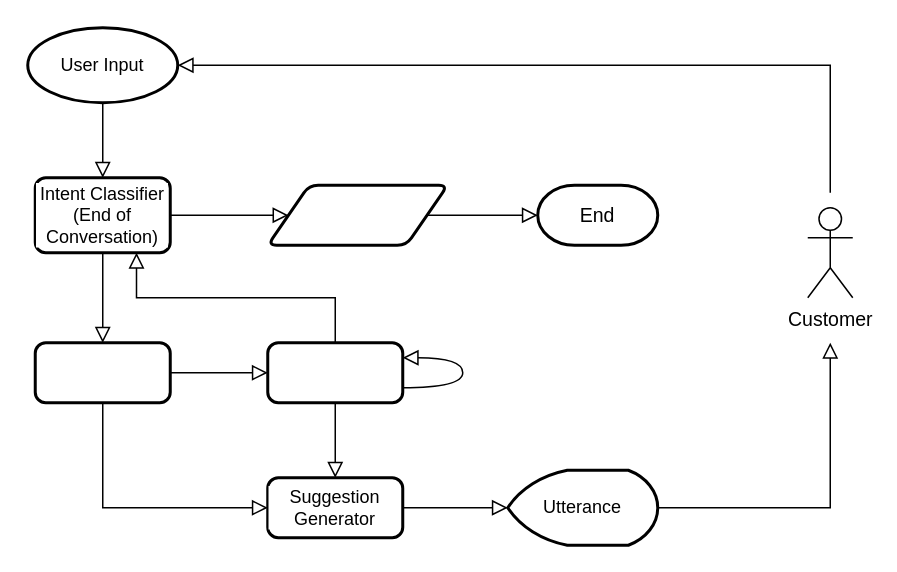
Some shapes in this 897 by 572 pixel diagram are drawn without their labels. The centre of each missing label's shape, as x and y in pixels:
Feedback Record (if any): pixel 357 214
Tech Issue Analyser: pixel 335 372
Warranty Checker: pixel 102 372
